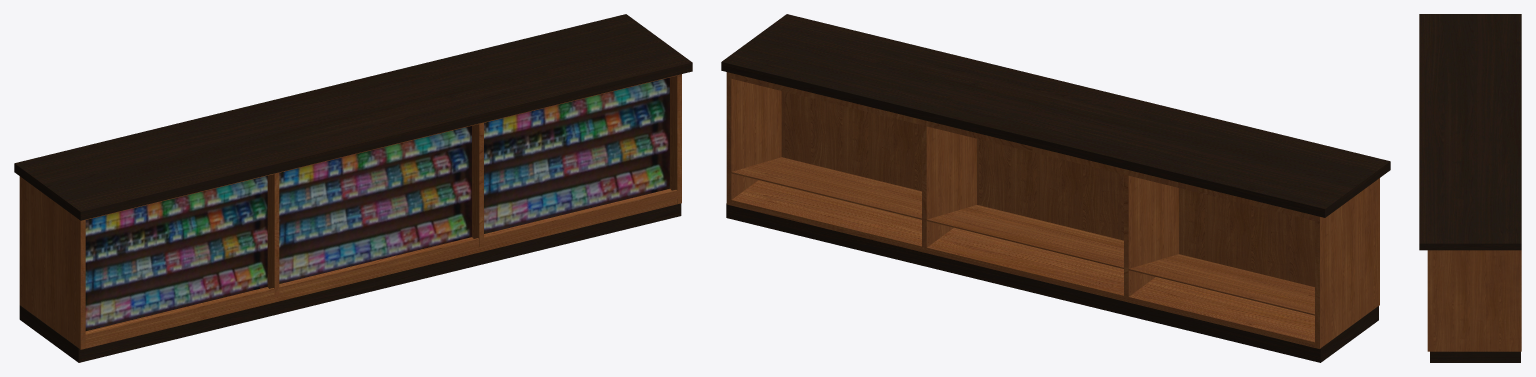
File: shelving.glb
3 views of the same model, side by side, from view 1: azimuth 30°, elevation 25°; view 2: azimuth 150°, elevation 25°; view 3: azimuth 270°, elevation 25° (orthographic). The views are drawn at different scales.
Visible parts, largest first — view 1: Shelving 2; view 2: Shelving 2; view 3: Shelving 2.
Boxes of the visible parts, x1,y1,x2,y2 form: Shelving 2: (14, 14, 692, 362); Shelving 2: (721, 14, 1390, 362); Shelving 2: (1419, 14, 1521, 362).
Bounding box in the file's own units: 3.79 × 0.932 × 0.7127.
Materials: 3 (3 with a texture image).
